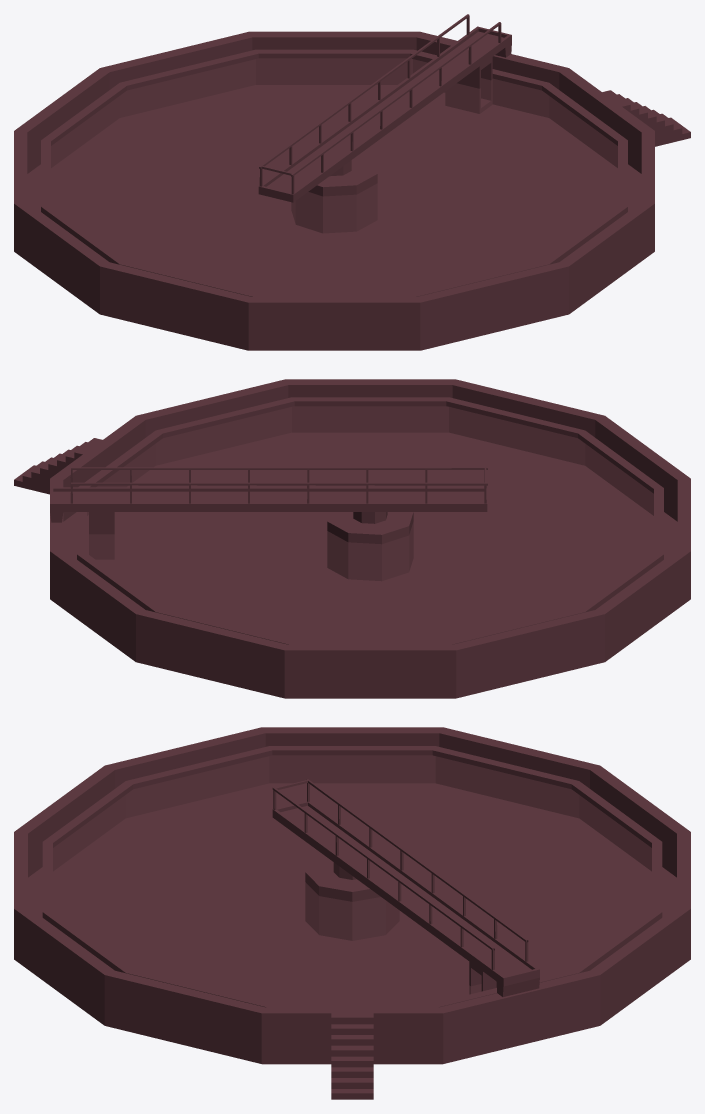
The model's file is sewage-treatment-pool.fbx.
3 renders of one model, top to bottom at view 1: azimuth 30°, elevation 25°; view 2: azimuth 150°, elevation 25°; view 3: azimuth 270°, elevation 25°, orthographic. The views are drawn at different scales.
Parts seen in each view (by area): view 1: sewage-treatment-pool; view 2: sewage-treatment-pool; view 3: sewage-treatment-pool.
Boxes of the visible parts, x1,y1,x2,y2 form: sewage-treatment-pool: (14,14,690,350); sewage-treatment-pool: (14,379,690,698); sewage-treatment-pool: (14,727,690,1099).
Size of the model in its own units: 21.72 by 2.91 by 19.32.
